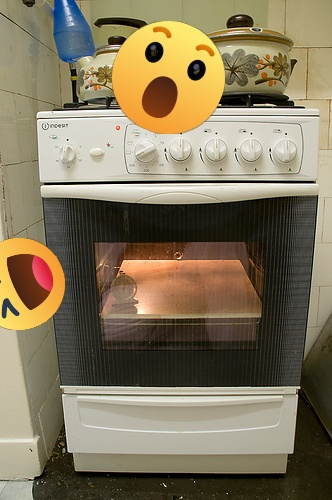haha: (0, 238, 65, 330)
wow: (112, 21, 225, 134)
